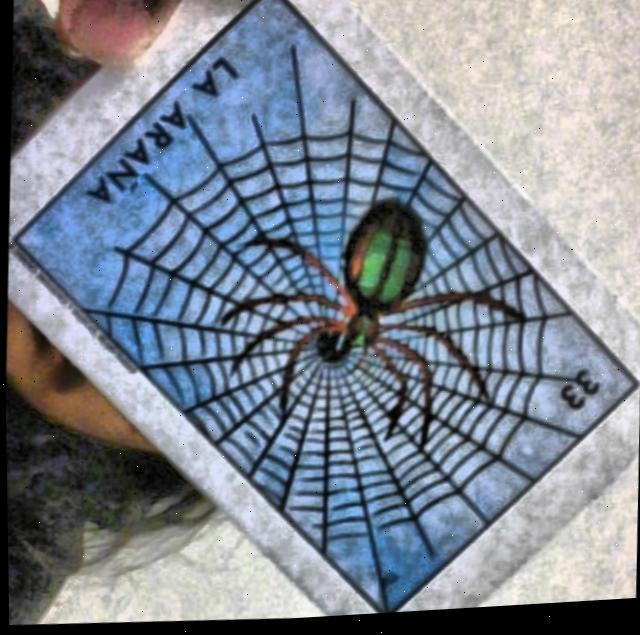La Arana: (14, 0, 637, 618)
